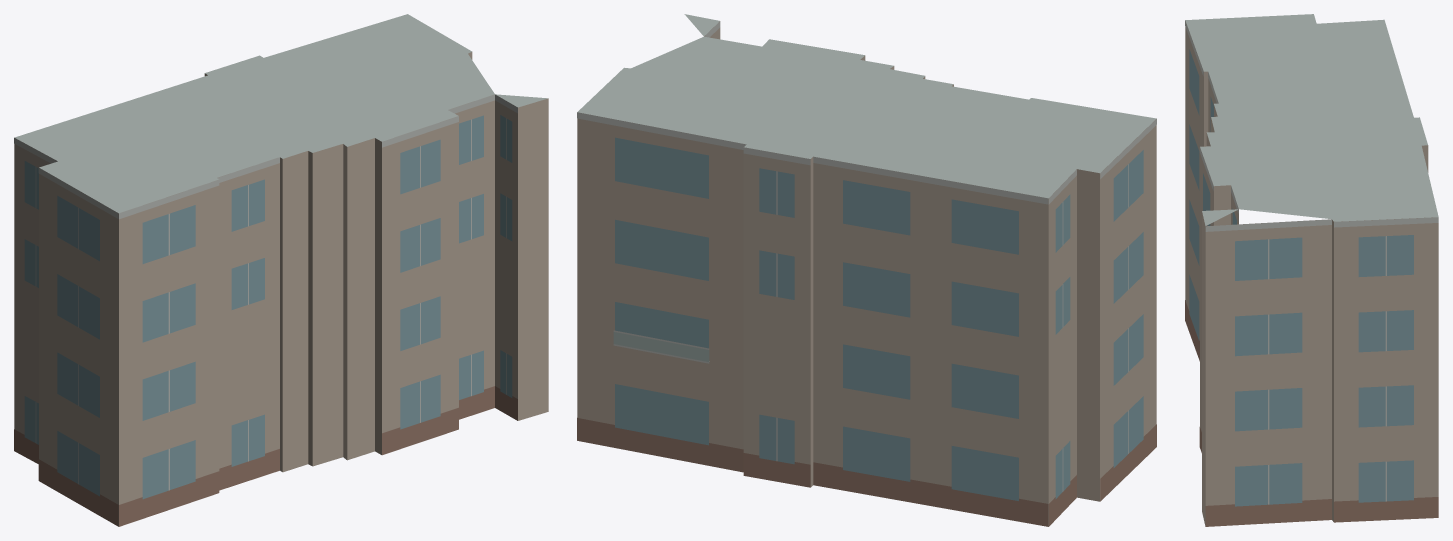
The model's file is survey-upis-32743187.glb.
3 renders of one model, left to right at view 1: azimuth 30°, elevation 25°; view 2: azimuth 150°, elevation 25°; view 3: azimuth 270°, elevation 25°, orthographic. The views are drawn at different scales.
Visible parts, largest first — view 1: survey-upis-32743187.tmp; view 2: survey-upis-32743187.tmp; view 3: survey-upis-32743187.tmp.
Boxes of the visible parts, x1=… form: survey-upis-32743187.tmp: x1=14, y1=14, x2=548, y2=526; survey-upis-32743187.tmp: x1=577, y1=14, x2=1156, y2=526; survey-upis-32743187.tmp: x1=1185, y1=14, x2=1438, y2=526.
Size of the model in its own units: 19.38 by 12.8 by 9.79.
